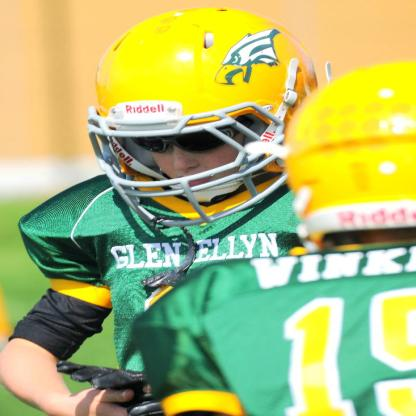Helmet: (84, 3, 334, 288), (292, 59, 416, 250)
